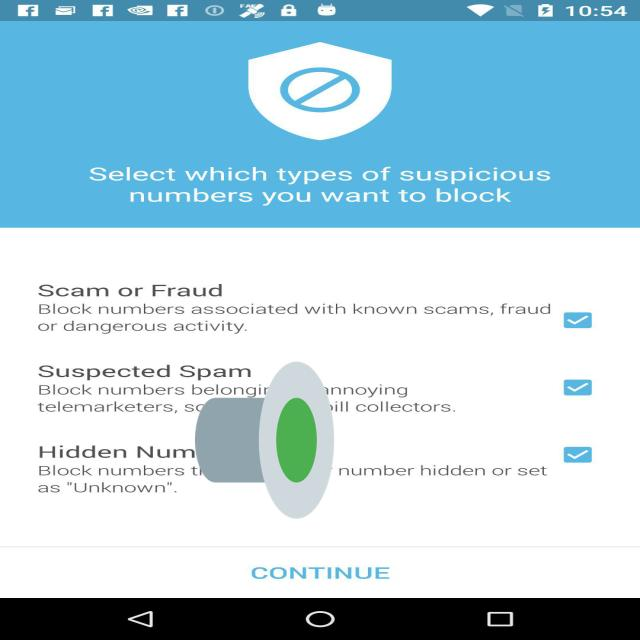social proof: (195, 295, 334, 585)
